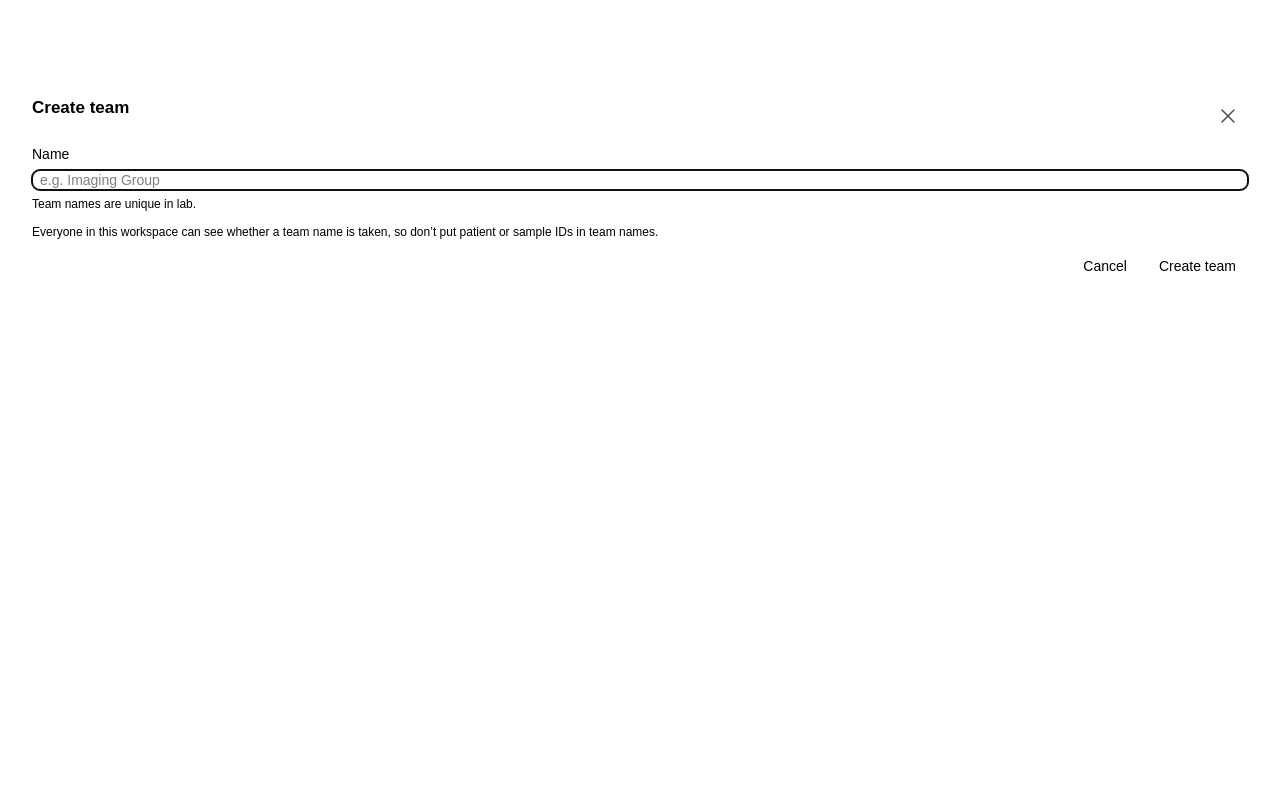
CreateTeamDialog › says a taken team name in the S2 wording, from the daemon’s text
Type "Analysis Lab" into the field labelled "Name" at [640, 180], box [32,170,1248,190]
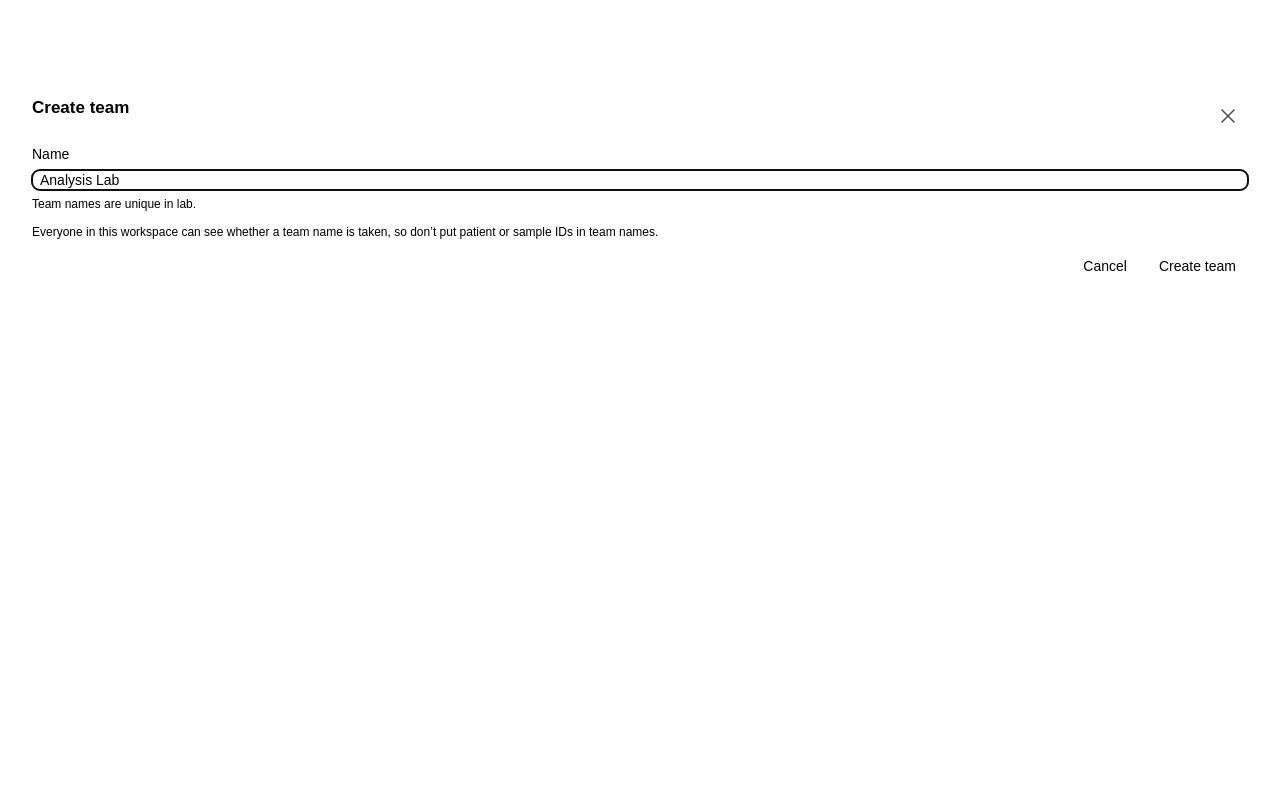
Click the button "Create team" at [1198, 266], box [1147,256,1248,276]
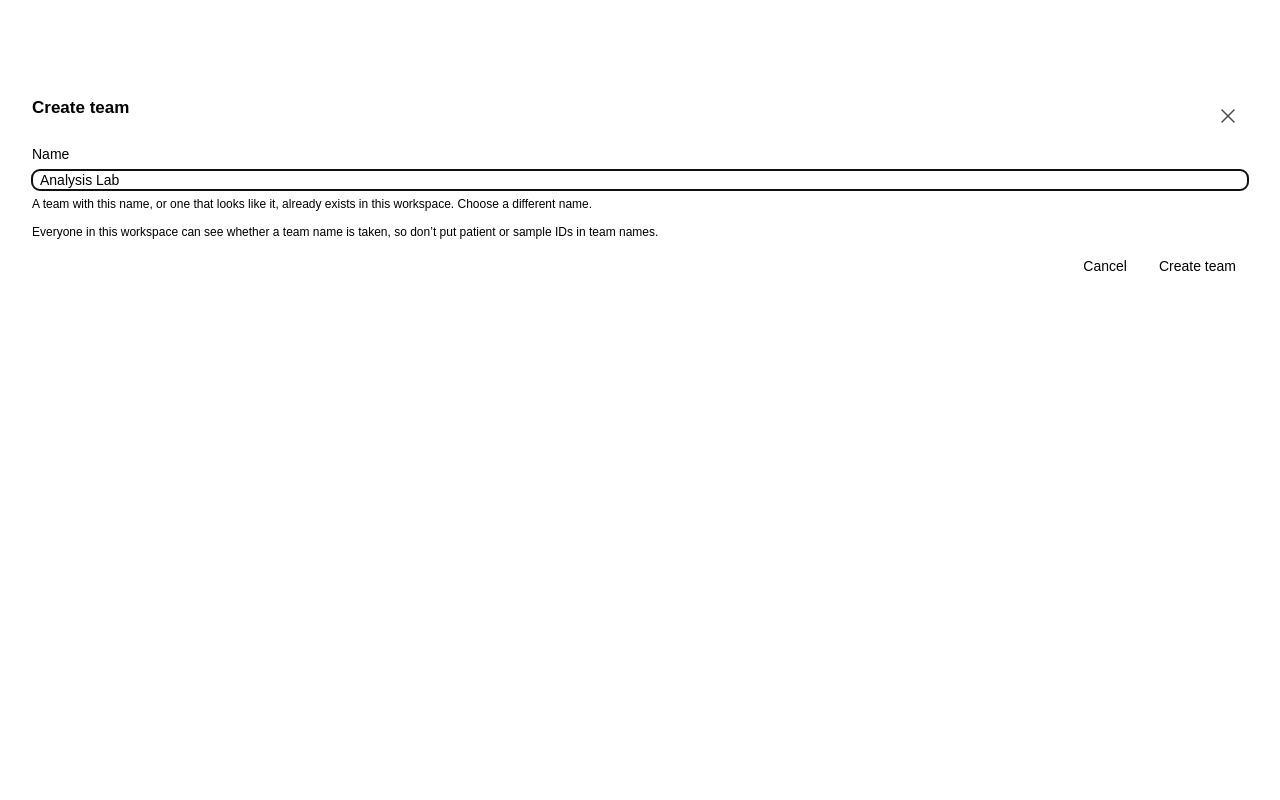
Expected: the text "A team with this name, or one that looks like it, already exists in this workspace. Choose a different name." is shown, [32,197,592,211]
